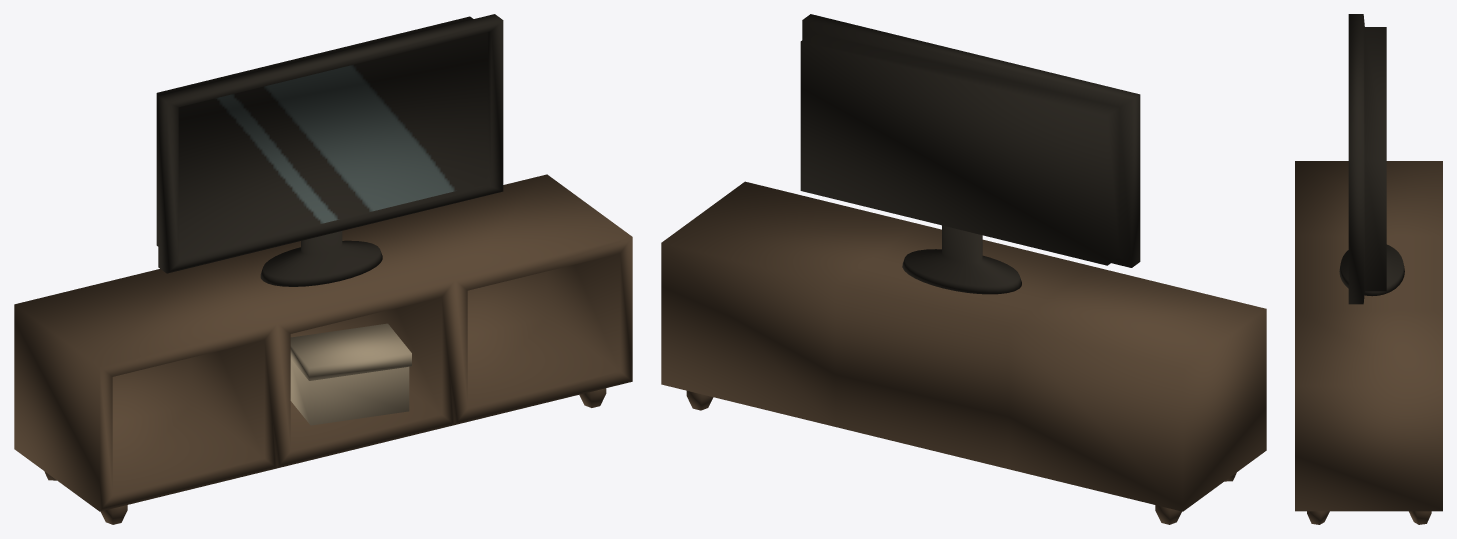
File: TV_Livingroom_V1.fbx
3 views of the same model, side by side, from view 1: azimuth 30°, elevation 25°; view 2: azimuth 150°, elevation 25°; view 3: azimuth 270°, elevation 25° (orthographic). The views are drawn at different scales.
Parts seen in each view (by area): view 1: Cube.001, Cube.002, Cube.007, Cylinder.002, Cylinder; view 2: Cube.001, Cube.002, Cylinder.002, Cylinder; view 3: Cube.001, Cube.002, Cylinder.002, Cylinder.
Boxes of the visible parts, box(x1,y1,x2,y2) form: Cube.001: box(14, 174, 632, 511); Cube.002: box(156, 14, 503, 273); Cube.007: box(290, 323, 411, 425); Cylinder.002: box(260, 231, 382, 286); Cylinder: box(44, 388, 606, 524); Cube.001: box(661, 181, 1266, 511); Cube.002: box(800, 14, 1140, 267); Cylinder.002: box(902, 225, 1021, 294); Cylinder: box(686, 391, 1236, 524); Cube.001: box(1295, 161, 1442, 511); Cube.002: box(1348, 14, 1386, 304); Cylinder.002: box(1339, 244, 1404, 296); Cylinder: box(1307, 511, 1431, 524).
Bounding box in the file's own units: 268 × 186 × 74.41.
